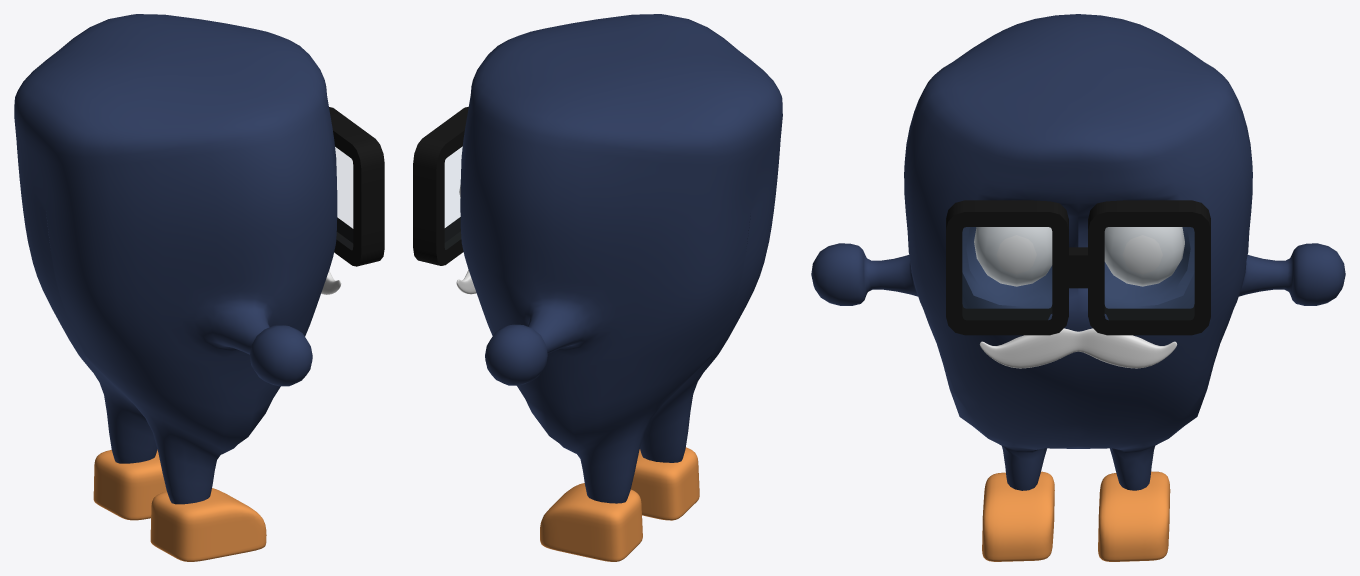
File: Antivirus_model 15.fbx
3 renders of one model, left to right at view 1: azimuth 30°, elevation 25°; view 2: azimuth 150°, elevation 25°; view 3: azimuth 270°, elevation 25°, orthographic.
Parts seen in each view (by area): view 1: Body, Cube, l_shoe, r_shoe; view 2: Body, Cube, r_shoe, l_shoe; view 3: Body, Cube, l_shoe, r_shoe, Cube_3, Cube_1, Cube_2.
Boxes of the visible parts, bbox=[...] form: Body: bbox=[14, 14, 337, 504]; Cube: bbox=[329, 107, 384, 266]; l_shoe: bbox=[150, 488, 266, 561]; r_shoe: bbox=[93, 449, 166, 520]; Body: bbox=[460, 14, 782, 503]; Cube: bbox=[413, 107, 468, 265]; r_shoe: bbox=[540, 483, 642, 561]; l_shoe: bbox=[631, 447, 699, 520]; Body: bbox=[811, 14, 1345, 490]; Cube: bbox=[946, 200, 1210, 335]; l_shoe: bbox=[982, 471, 1054, 561]; r_shoe: bbox=[1098, 471, 1170, 561]; Cube_3: bbox=[979, 328, 1177, 368]; Cube_1: bbox=[1104, 227, 1184, 286]; Cube_2: bbox=[974, 227, 1052, 286].
Size of the model in its own units: 406 by 641 by 649.
